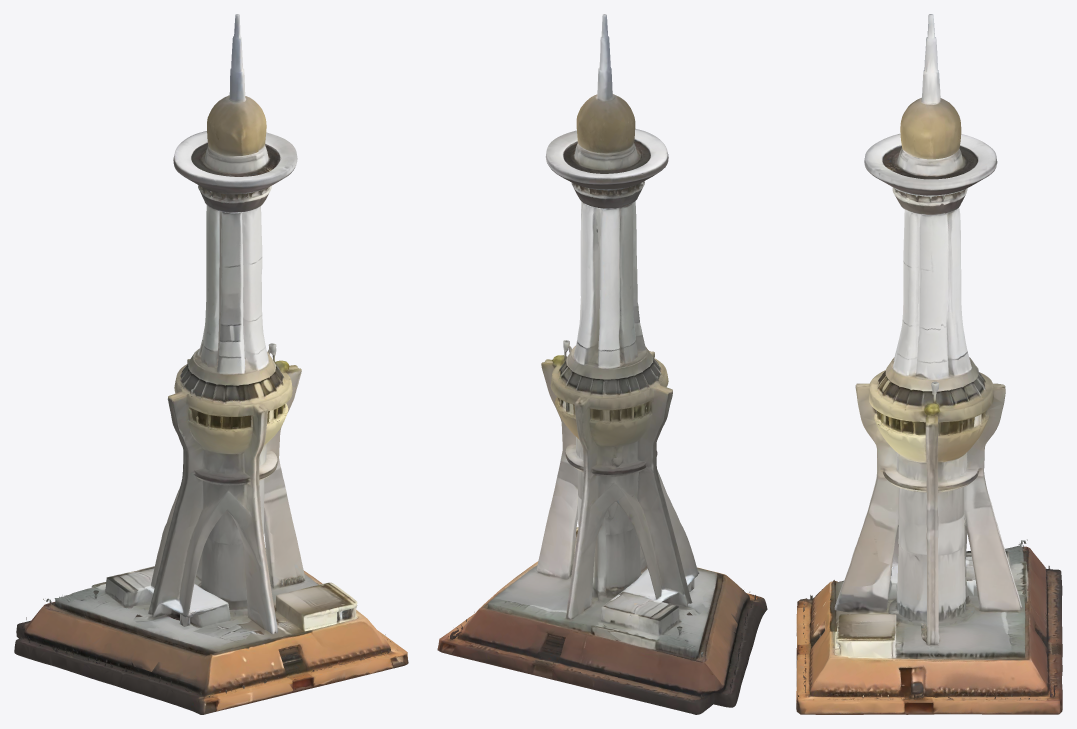
Rendered from tugu-mtq.glb.
The picture shows the model from 3 angles, left to right: view 1: azimuth 30°, elevation 25°; view 2: azimuth 150°, elevation 25°; view 3: azimuth 270°, elevation 25°; orthographic projection. The views are drawn at different scales.
Visible parts, largest first — view 1: Tugu MTQ; view 2: Tugu MTQ; view 3: Tugu MTQ.
Boxes of the visible parts, x1,y1,x2,y2 form: Tugu MTQ: (14, 14, 408, 714); Tugu MTQ: (437, 14, 767, 714); Tugu MTQ: (796, 14, 1062, 714).
Size of the model in its own units: 0.9057 by 1.9 by 0.7113.
1 material, 1 textured.
